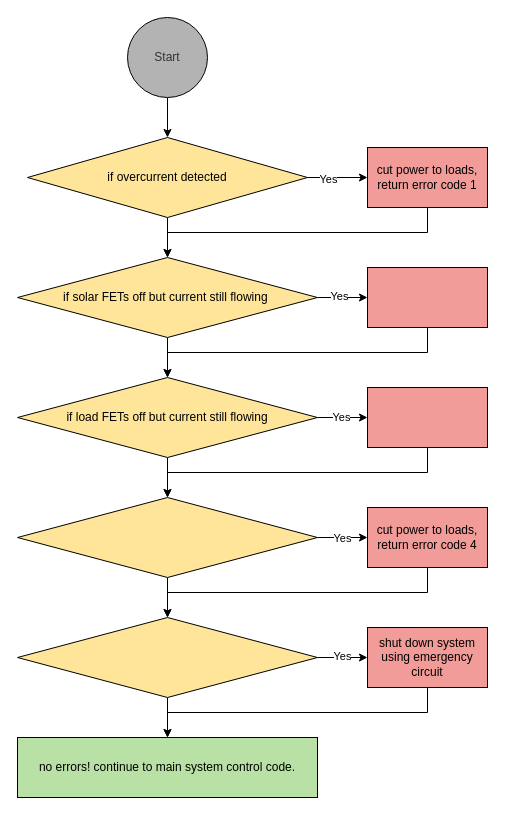
The diagram is 505 pixels wide and 815 high, and some of its shapes have lost their labels. The shapes that lost their labels are listed below. From the top down, each one's centre as x and y in pixels, then its label:
At (x=427, y=297): "trigger backup FETs, return error code 2".
At (x=427, y=417): "return error code 3".
At (x=167, y=537): "if solar FETs connected but no current flowing".
At (x=167, y=657): "if battery voltages outside safe limits".
